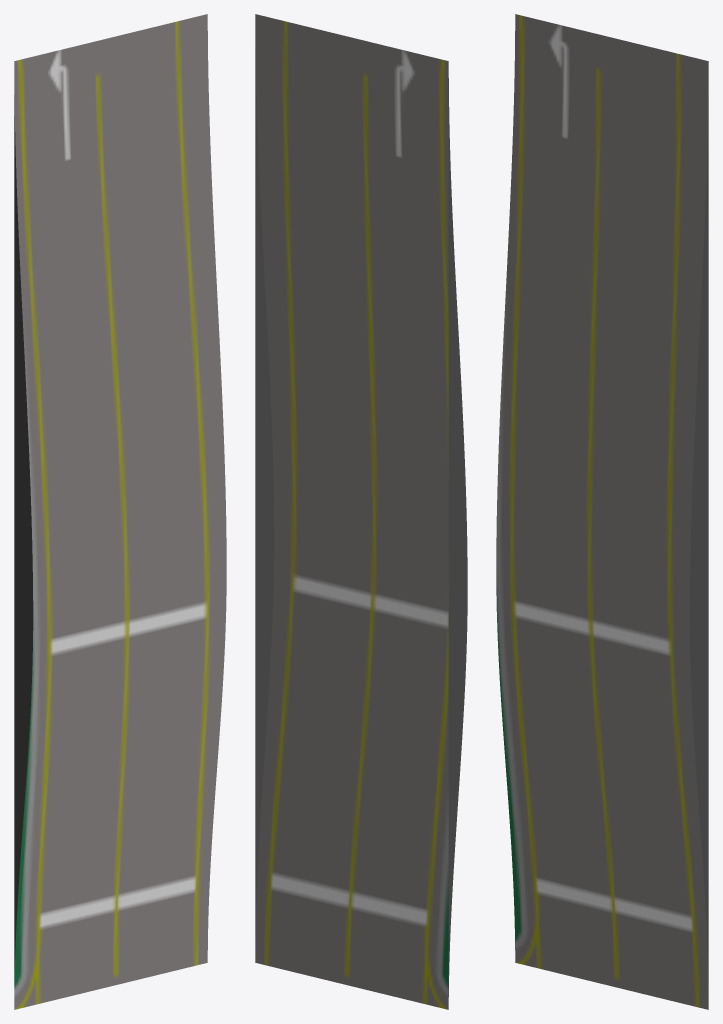
Rendered from hill.obj.
3 views of the same model, side by side, from view 1: azimuth 30°, elevation 25°; view 2: azimuth 150°, elevation 25°; view 3: azimuth 330°, elevation 25° (orthographic).
Bounding box in the file's own units: 8.85 × 41.48 × 1.5.
Materials: 2 (1 with a texture image).
